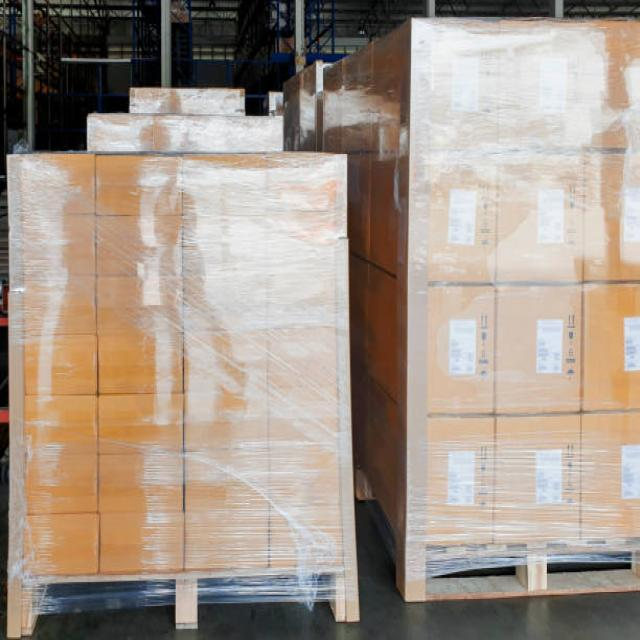Wooden-Pallets: (3, 568, 364, 639), (398, 534, 640, 610)
